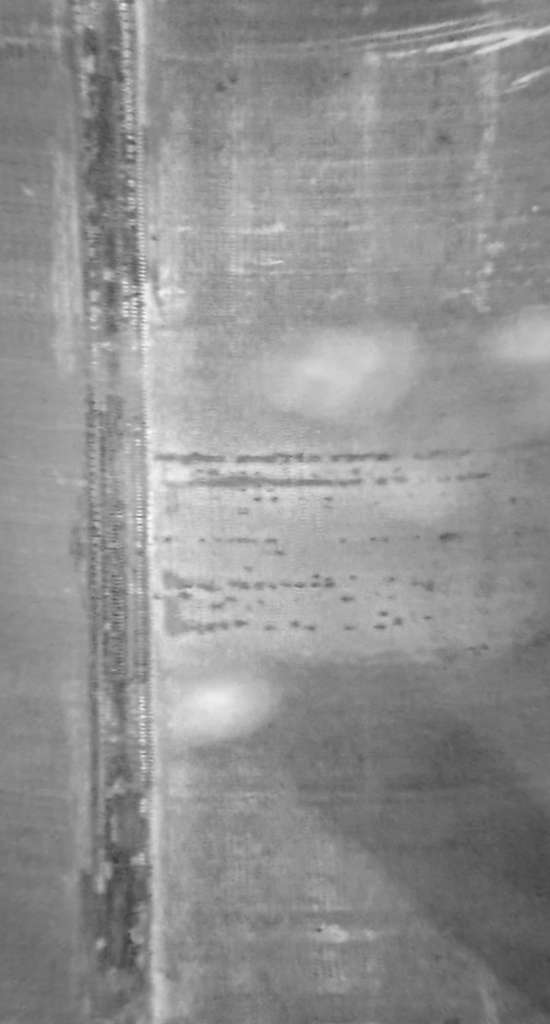splice: (59, 3, 157, 1024)
